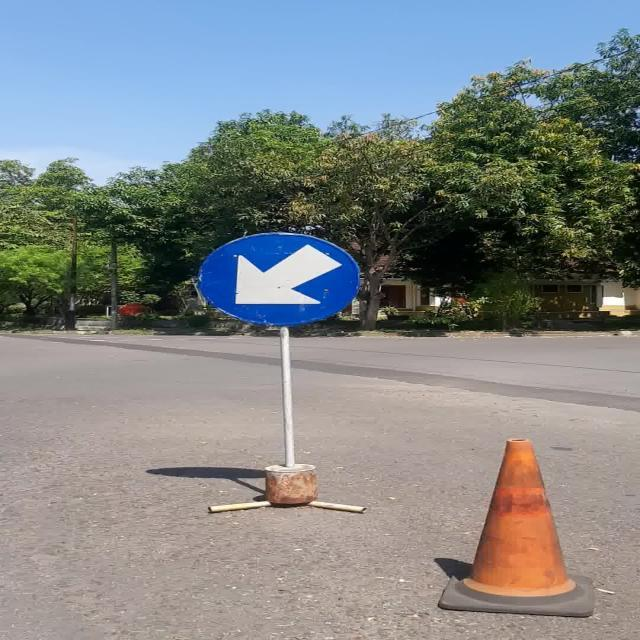Lajur Kiri: (198, 232, 360, 326)
